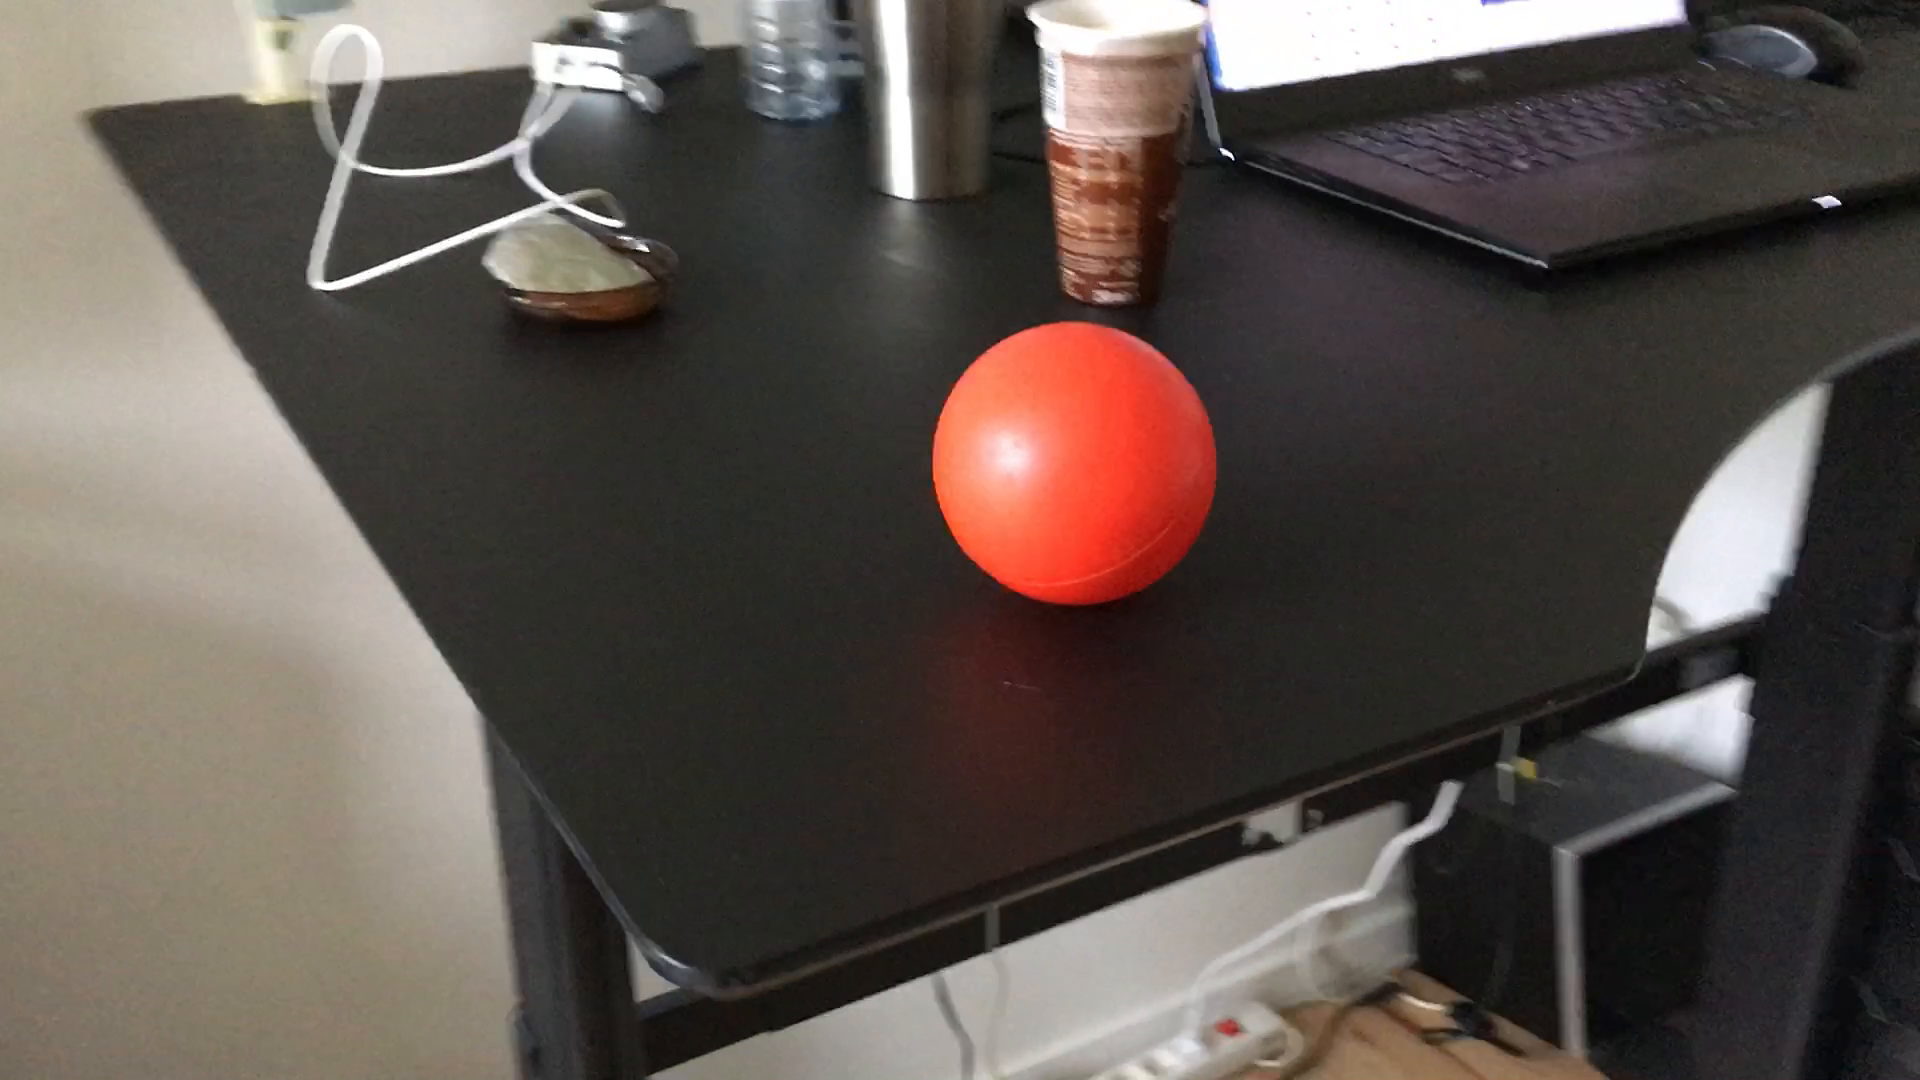Ball: (934, 322, 1225, 603)
